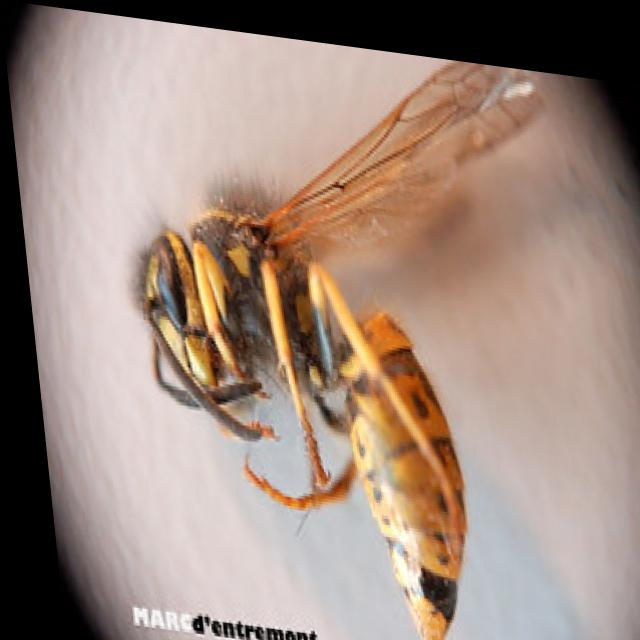Guepe: (89, 9, 591, 639)
